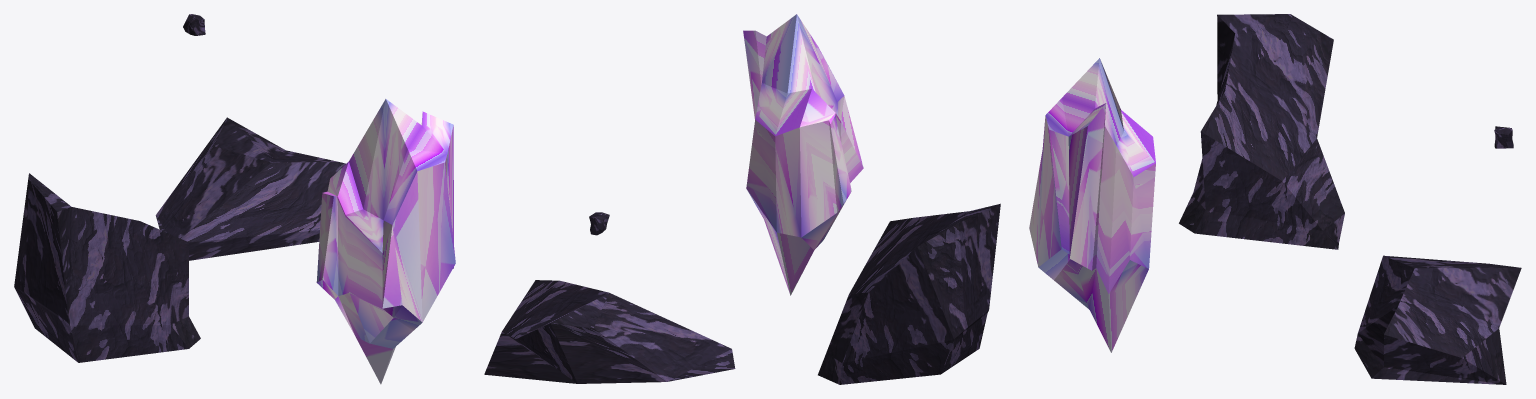
File: skibidisteen.fbx
3 views of the same model, side by side, from view 1: azimuth 30°, elevation 25°; view 2: azimuth 150°, elevation 25°; view 3: azimuth 270°, elevation 25° (orthographic). The views are drawn at different scales.
Visible parts, largest first — view 1: crystal 1, thickrock, thinrock, pebble; view 2: thickrock, crystal 1, thinrock; view 3: thickrock, crystal 1, thinrock.
Part boxes in pixels (x1,y1,x2,y2): crystal 1: (316,99,455,384); thickrock: (14,173,200,362); thinrock: (155,117,345,260); pebble: (183,14,205,35); thickrock: (818,203,1000,384); crystal 1: (743,14,863,295); thinrock: (484,280,735,383); thickrock: (1179,14,1344,249); crystal 1: (1029,58,1155,352); thinrock: (1354,255,1521,384).
Bounding box in the file's own units: 1106 × 761 × 1151.
